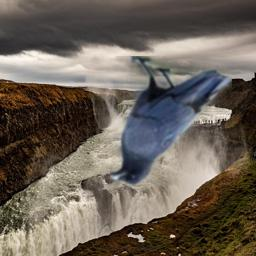Crow: (110, 56, 232, 186)
